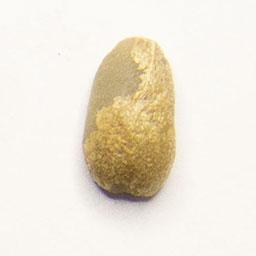longberry: (78, 33, 180, 202)
